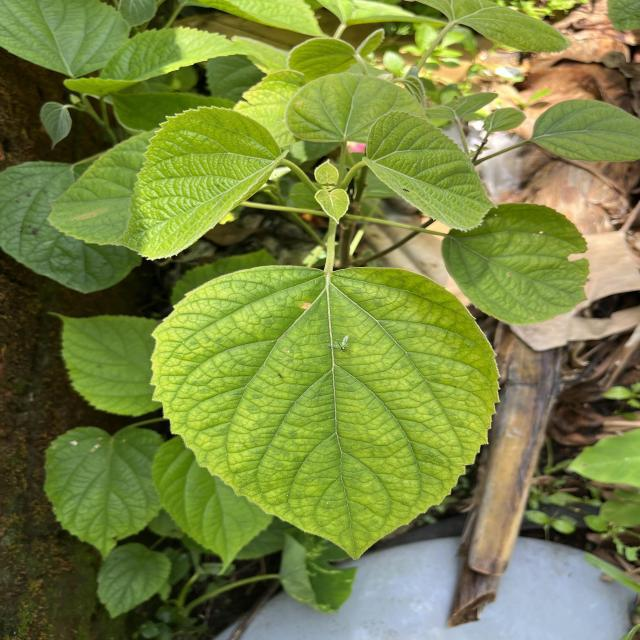Clerodendrum infortunatum: (148, 264, 503, 564), (108, 105, 292, 261), (440, 201, 593, 327), (42, 424, 170, 562), (362, 109, 501, 235), (43, 310, 168, 418), (286, 72, 428, 144), (529, 97, 640, 166)
